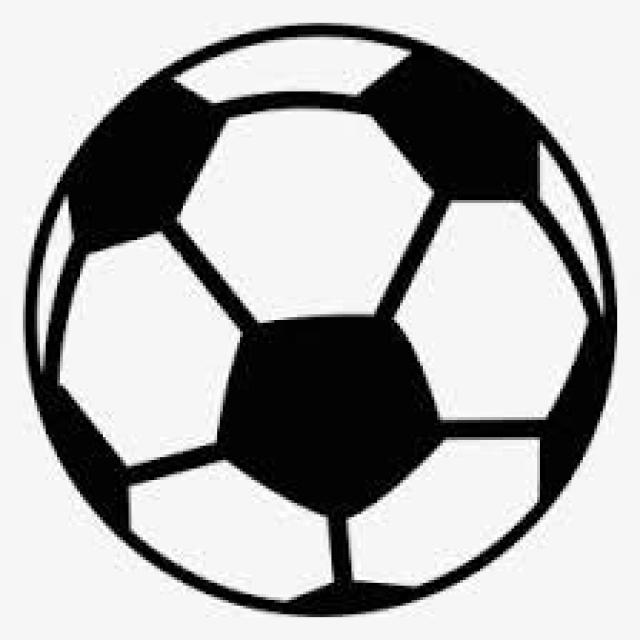Soccer Ball: (23, 26, 617, 617)
